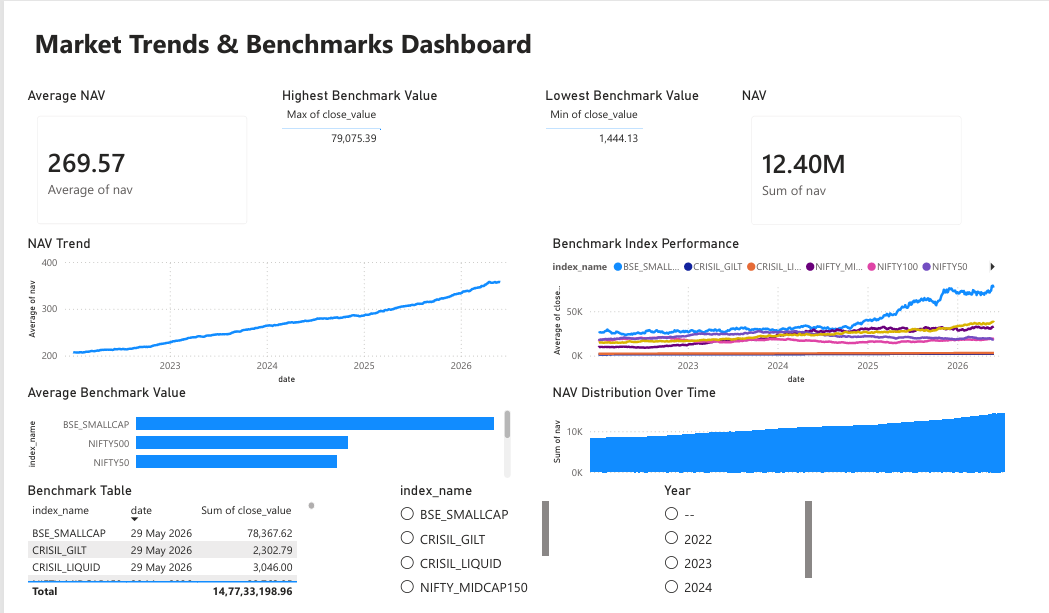

The dashboard page shown, as its layout file describes it:
{"tool":"powerbi","page":{"name":"Market Trends & Benchmarks","canvas":[1280,720],"ordinal":5},"visuals":[{"type":"textbox","box":[9.3,0,706,58.3],"z":0},{"type":"cardVisual","title":"Average NAV","fields":{"Data":["Avg(02_nav_history.nav)"]},"box":[0,81.6,293.6,188.7],"z":1000},{"type":"tableEx","title":"Highest Benchmark Value","fields":{"Values":["Max(10_benchmark_indices.close_value)"]},"box":[314.6,81.6,293.6,188.7],"z":2000},{"type":"tableEx","title":"Lowest Benchmark Value","fields":{"Values":["Min(10_benchmark_indices.close_value)"]},"box":[640.8,81.6,293.6,188.7],"z":3000},{"type":"lineChart","title":"NAV Trend","fields":{"Category":["02_nav_history.date"],"Y":["Avg(02_nav_history.nav)"]},"box":[0,265.6,608.2,188.7],"z":5000},{"type":"lineChart","title":"Benchmark Index Performance","fields":{"Y":["Avg(10_benchmark_indices.close_value)"],"Category":["10_benchmark_indices.date"],"Series":["10_benchmark_indices.index_name"]},"box":[650.1,265.6,568.5,188.7],"z":6000},{"type":"clusteredBarChart","title":"Average Benchmark Value","fields":{"Y":["Avg(10_benchmark_indices.close_value)"],"Category":["10_benchmark_indices.index_name"]},"box":[0,449.7,608.2,121.2],"z":7000},{"type":"columnChart","title":"NAV Distribution Over Time","fields":{"Y":["Sum(02_nav_history.nav)"],"Category":["02_nav_history.date"]},"box":[650.1,449.7,568.5,123.5],"z":8000},{"type":"tableEx","title":"Benchmark Table","fields":{"Values":["10_benchmark_indices.index_name","10_benchmark_indices.date","Sum(10_benchmark_indices.close_value)"]},"box":[0,570.9,365.8,149.1],"z":9000},{"type":"listSlicer","fields":{"Values":["10_benchmark_indices.index_name"]},"box":[461.4,570.9,193.4,149.1],"z":10000},{"type":"listSlicer","fields":{"Values":["DateTable.Year"]},"box":[787.6,570.9,193.4,149.1],"z":11000},{"type":"cardVisual","title":" NAV","fields":{"Data":["Sum(02_nav_history.nav)"]},"box":[884,82,293.6,188.7],"z":11001}]}

Visuals, with their boxes on the page's 1280x720 design canvas (x1, y1, x2, y2). These are canvas units, not pixel positions in the 1049x613 screenshot, which may show the page scaled, cropped or inside an application window:
textbox: rect(9, 0, 715, 58)
"Average NAV" cardVisual: rect(0, 82, 294, 270)
"Highest Benchmark Value" tableEx: rect(315, 82, 608, 270)
"Lowest Benchmark Value" tableEx: rect(641, 82, 934, 270)
"NAV Trend" lineChart: rect(0, 266, 608, 454)
"Benchmark Index Performance" lineChart: rect(650, 266, 1219, 454)
"Average Benchmark Value" clusteredBarChart: rect(0, 450, 608, 571)
"NAV Distribution Over Time" columnChart: rect(650, 450, 1219, 573)
"Benchmark Table" tableEx: rect(0, 571, 366, 720)
listSlicer - 10_benchmark_indices.index_name: rect(461, 571, 655, 720)
listSlicer - DateTable.Year: rect(788, 571, 981, 720)
" NAV" cardVisual: rect(884, 82, 1178, 271)
